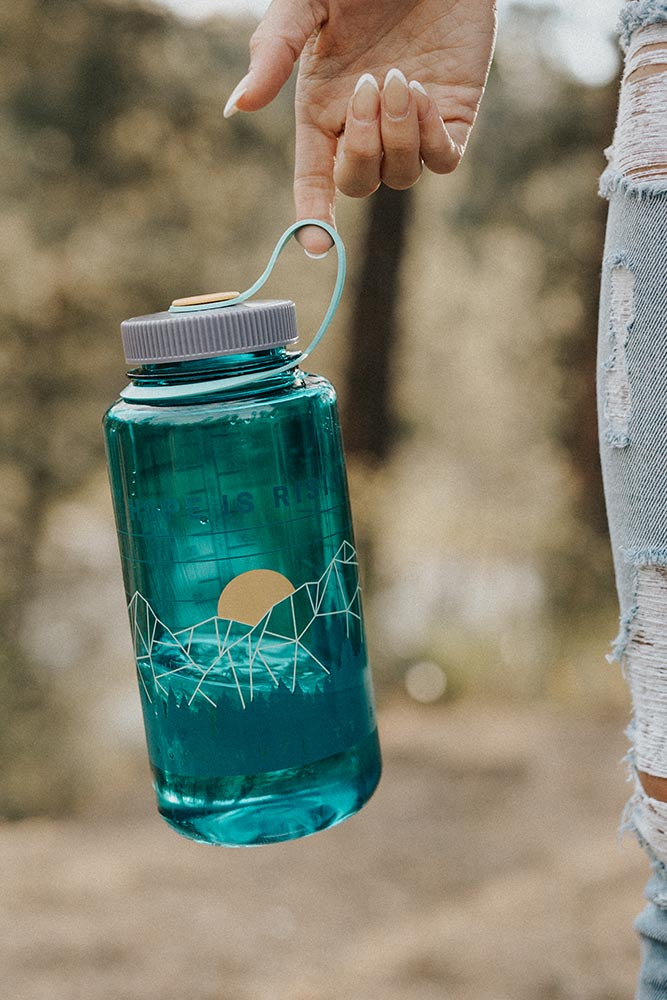bottle: (102, 217, 386, 852)
